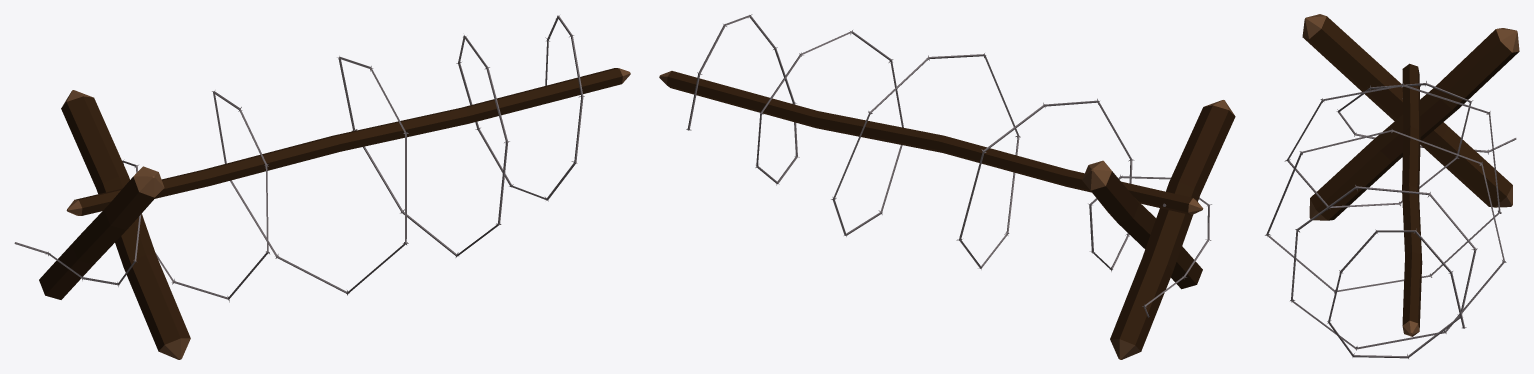
Rendered from barricade.fbx.
The picture shows the model from 3 angles, left to right: view 1: azimuth 30°, elevation 25°; view 2: azimuth 150°, elevation 25°; view 3: azimuth 270°, elevation 25°; orthographic projection. The views are drawn at different scales.
Parts seen in each view (by area): view 1: wood_barricade1_LOD0, wood_barricade2_LOD0, barbed_wire_LOD0; view 2: wood_barricade1_LOD0, wood_barricade2_LOD0, barbed_wire_LOD0; view 3: wood_barricade1_LOD0, barbed_wire_LOD0, wood_barricade2_LOD0.
Part boxes in pixels (x1,y1,x2,y2): wood_barricade1_LOD0: (39,90,190,359); wood_barricade2_LOD0: (66,68,630,215); barbed_wire_LOD0: (14,15,584,302); wood_barricade1_LOD0: (1082,100,1235,359); wood_barricade2_LOD0: (659,71,1203,215); barbed_wire_LOD0: (686,14,1211,317); wood_barricade1_LOD0: (1302,14,1519,220); barbed_wire_LOD0: (1265,81,1516,358); wood_barricade2_LOD0: (1402,63,1422,336).
Size of what is drawn, in the model's own units: 377 by 133 by 152.
